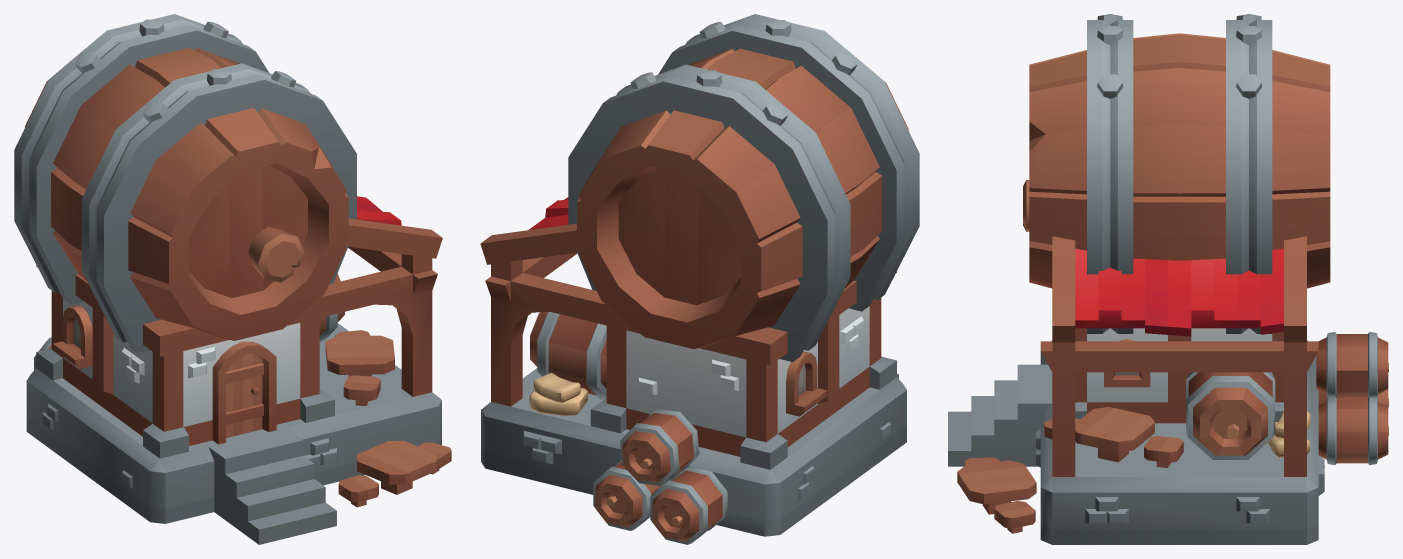
Rendered from k-tavern-kaykit.glb.
3 renders of one model, left to right at view 1: azimuth 30°, elevation 25°; view 2: azimuth 150°, elevation 25°; view 3: azimuth 270°, elevation 25°, orthographic. The views are drawn at different scales.
Visible parts, largest first — view 1: building_tavern_red; view 2: building_tavern_red; view 3: building_tavern_red.
Boxes of the visible parts, <box> form: building_tavern_red: <box>14,14,451,544</box>; building_tavern_red: <box>480,14,919,544</box>; building_tavern_red: <box>948,14,1388,544</box>.
Size of the model in its own units: 1.17 by 1.4 by 1.33.
Materials: 1 (1 with a texture image).
